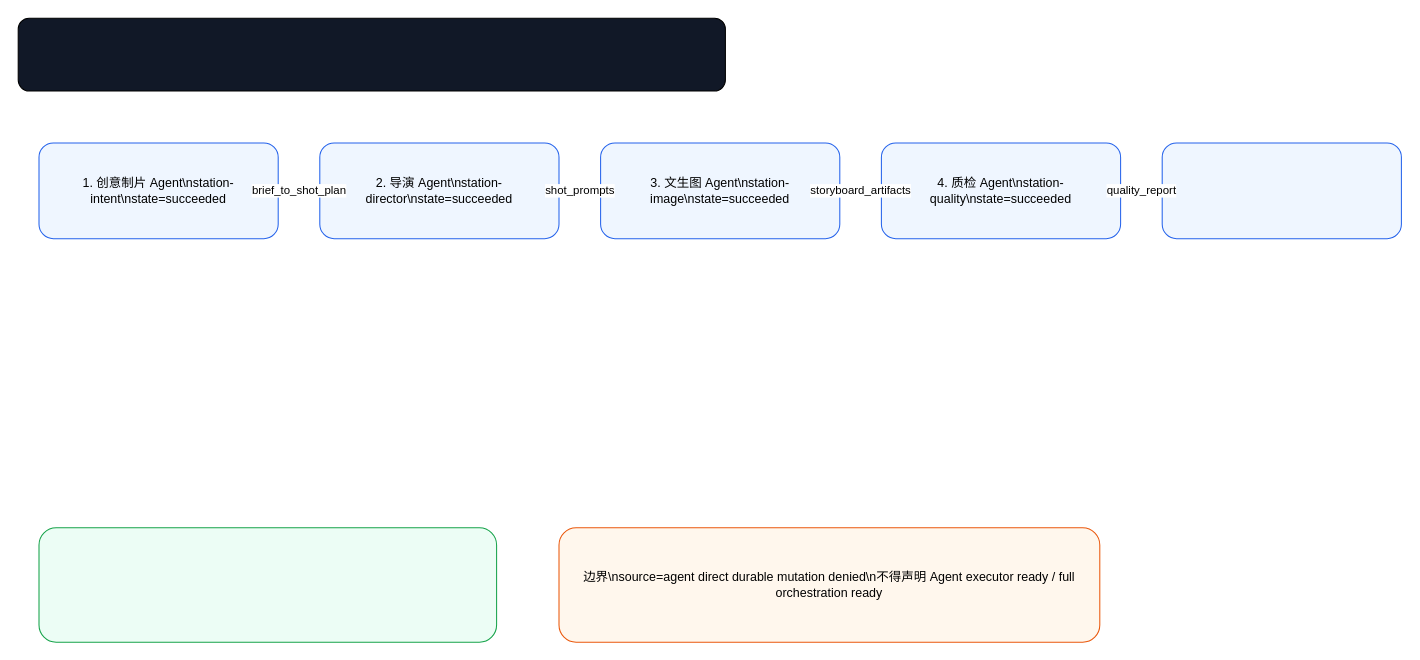
Some shapes in this 1420 by 660 pixel diagram are drawn without their labels. The shapes that lost their labels are listed below. From the top down, each one's centre as x and y in pixels, then its label:
At point 371,54: "V9 视频创作工作流 E2E\n内部 Agent 状态与关联".
At point 1281,190: "5. 制片总结 Agent\nstation-synthesis\nstate=succeeded".
At point 267,584: "质检 Agent 输出\nstatus=PASS\nstyle=PASS character=PASS".
